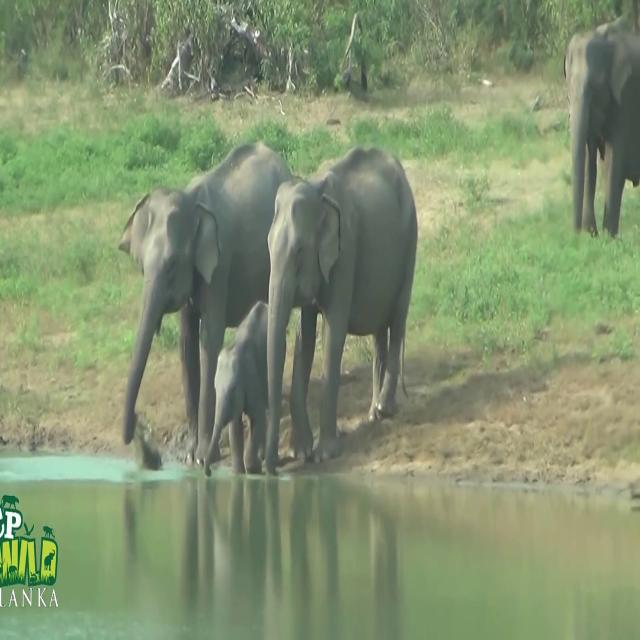Elephant: (118, 139, 312, 471), (265, 145, 418, 465), (563, 8, 640, 239)
